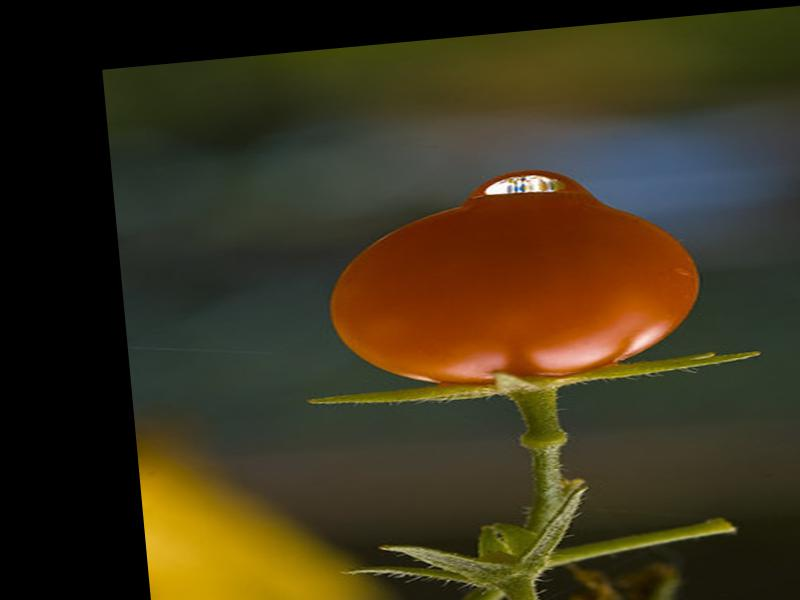Tomato: (324, 184, 710, 398)
